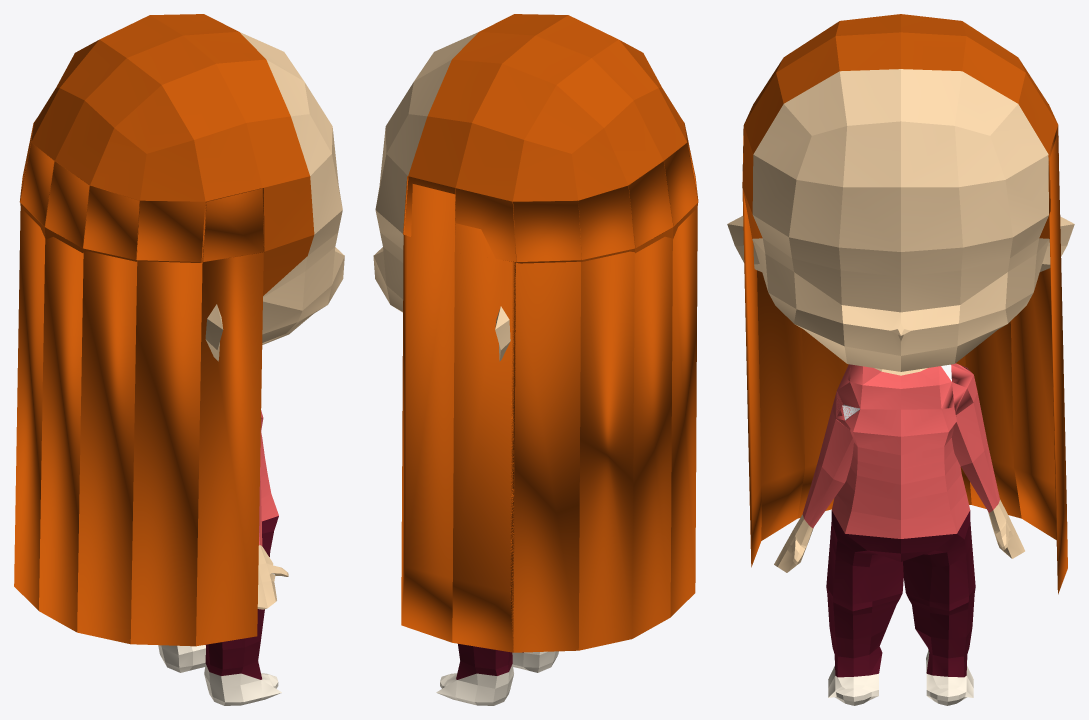
The picture shows the model from 3 angles, left to right: view 1: azimuth 30°, elevation 25°; view 2: azimuth 150°, elevation 25°; view 3: azimuth 270°, elevation 25°; orthographic projection.
Parts seen in each view (by area): view 1: head2; view 2: head2; view 3: head2.
Part boxes in pixels (x1,y1,x2,y2): head2: (14, 14, 344, 705); head2: (373, 14, 698, 705); head2: (727, 14, 1074, 705).
Bounding box in the file's own units: 5.98 × 12.96 × 6.35.
Materials: 6 (1 with a texture image).
